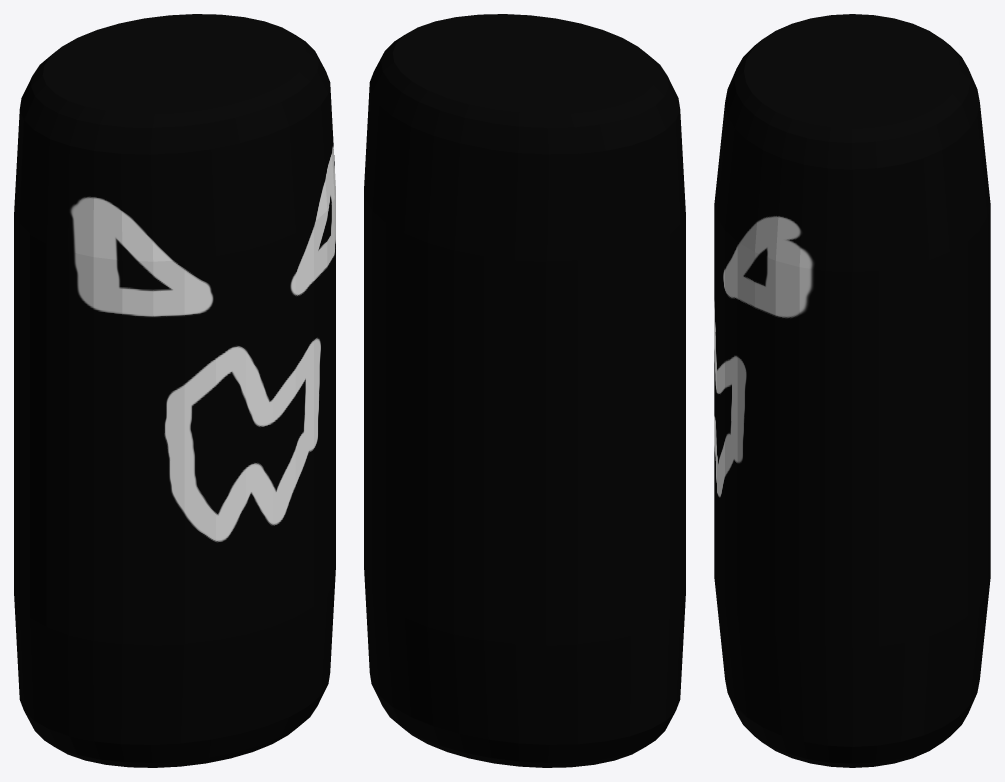
File: PunchingBag 1.0.glb
The picture shows the model from 3 angles, left to right: view 1: azimuth 30°, elevation 25°; view 2: azimuth 150°, elevation 25°; view 3: azimuth 270°, elevation 25°; orthographic projection. The views are drawn at different scales.
Parts seen in each view (by area): view 1: Cylinder; view 2: Cylinder; view 3: Cylinder.
Part boxes in pixels (box(x1,y1,x2,y2)): Cylinder: box(14, 14, 335, 767); Cylinder: box(364, 14, 685, 767); Cylinder: box(714, 14, 990, 767).
Size of the model in its own units: 2.05 by 4.43 by 1.73.
Materials: 1 (1 with a texture image).
